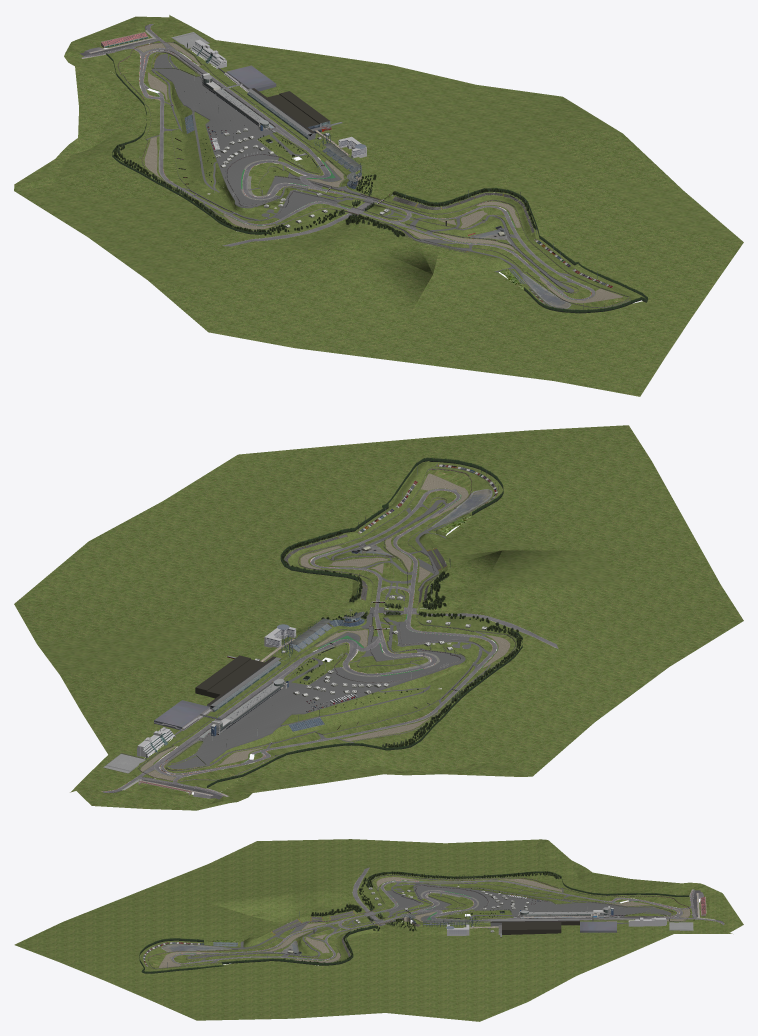
The model's file is nurburgring.glb.
The picture shows the model from 3 angles, top to bottom: view 1: azimuth 30°, elevation 25°; view 2: azimuth 150°, elevation 25°; view 3: azimuth 270°, elevation 25°; orthographic projection. The views are drawn at different scales.
Parts seen in each view (by area): view 1: nurbur_1; view 2: nurbur_1; view 3: nurbur_1, hoscheife_0.
Boxes of the visible parts, bbox=[...] form: nurbur_1: bbox=[14, 15, 743, 396]; nurbur_1: bbox=[14, 425, 743, 810]; nurbur_1: bbox=[14, 839, 743, 1021]; hoscheife_0: bbox=[628, 917, 666, 926].
Size of what is drawn, in the model's own units: 1605 by 118 by 2703.
51 materials, 48 textured.
